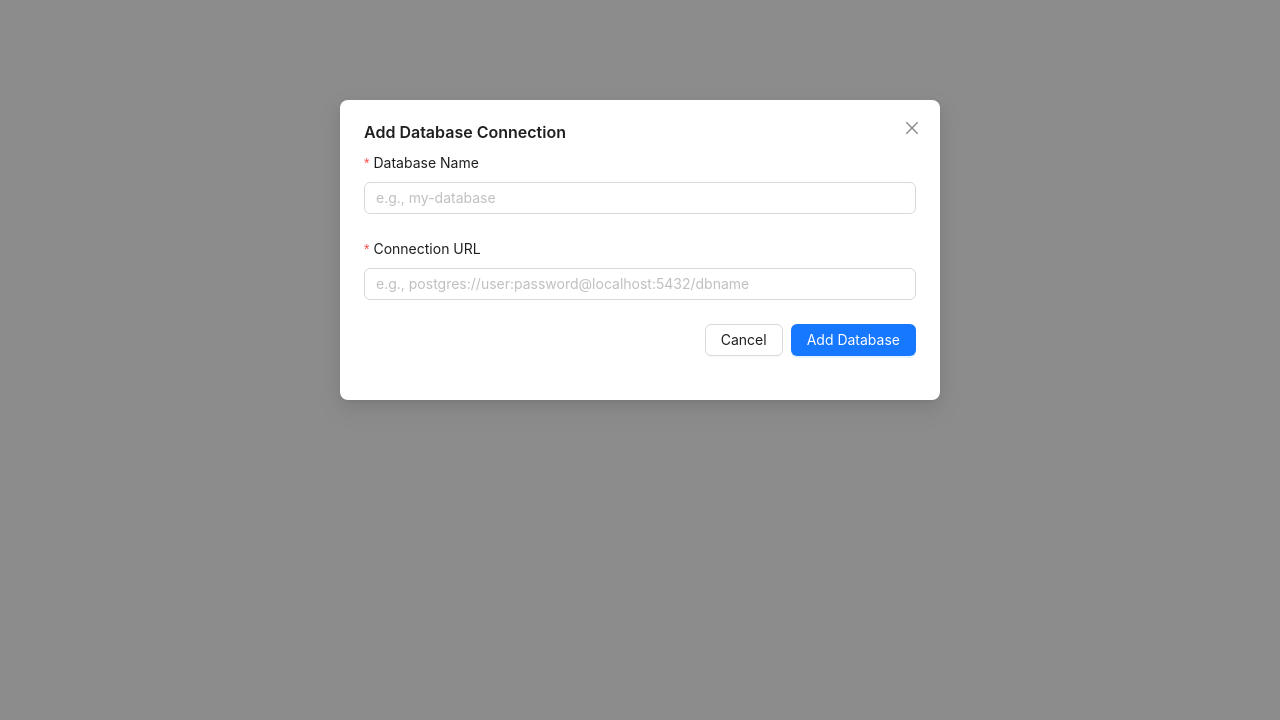
Scenario: AddDatabaseForm › validates database URL format
The image size is (1280, 720).
Type "testdb" into the field labelled "Database Name". click: {"x": 640, "y": 198}
box: [364, 182, 916, 214]
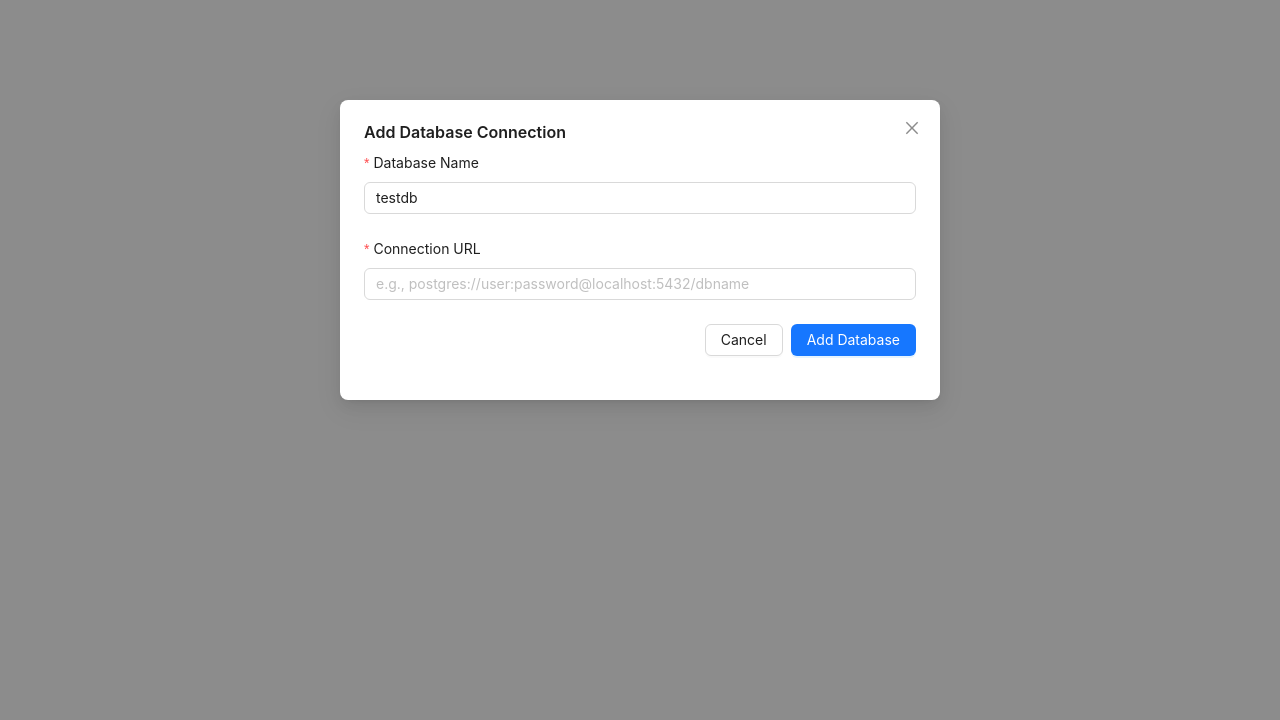
Type "invalid-url" into the field labelled "Connection URL". click: {"x": 640, "y": 284}
box: [364, 268, 916, 300]
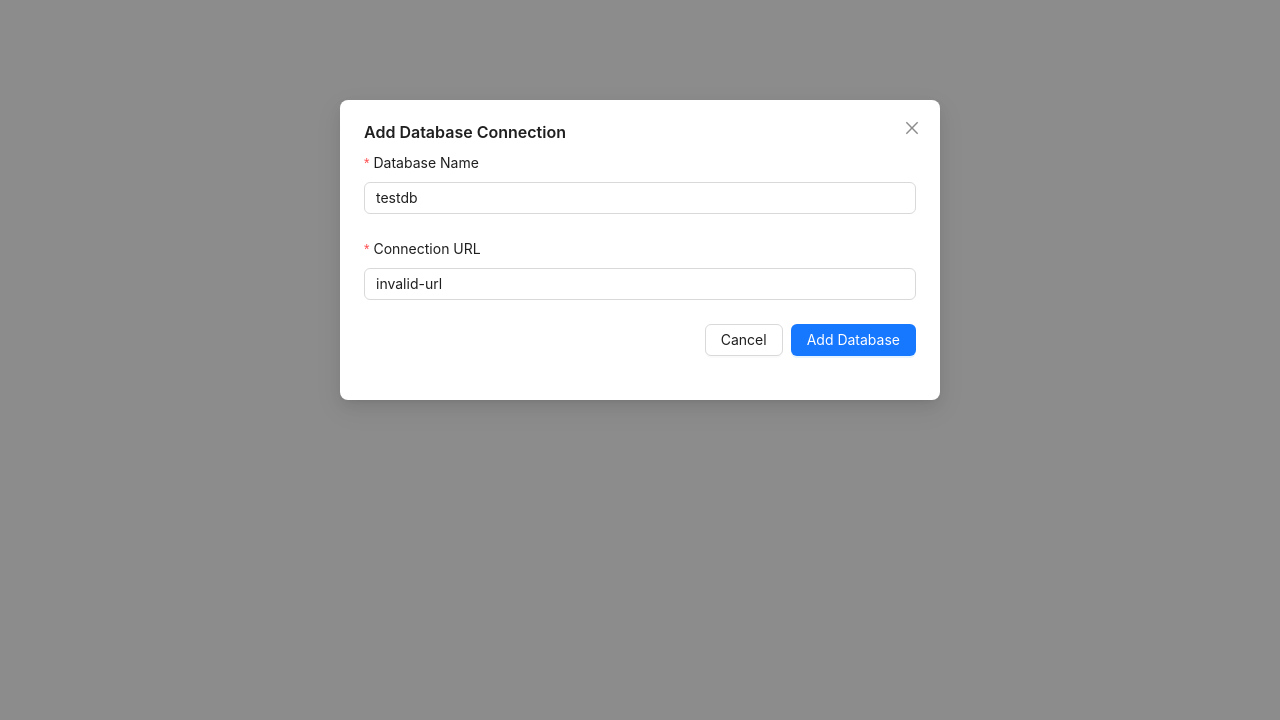
Click the button "Add Database". click: {"x": 853, "y": 340}
box: [791, 324, 916, 356]
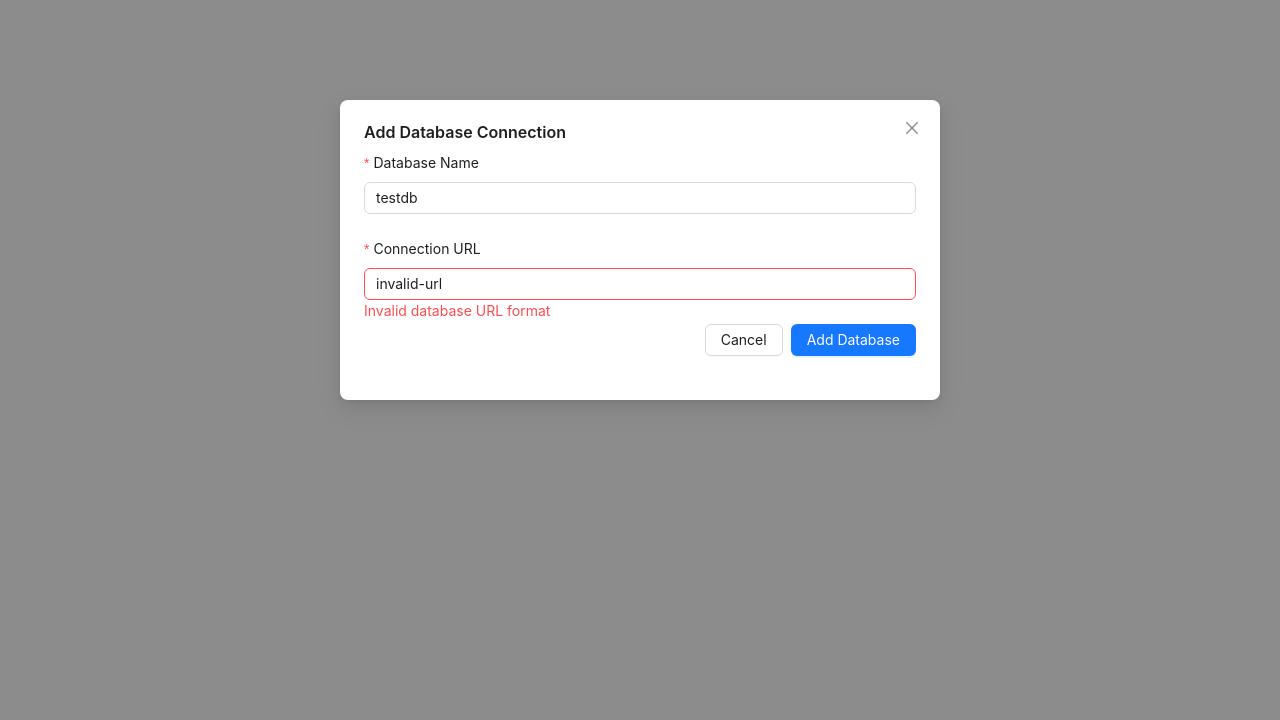
Check: the text "Invalid database URL format" is shown, box [364, 302, 550, 319]
